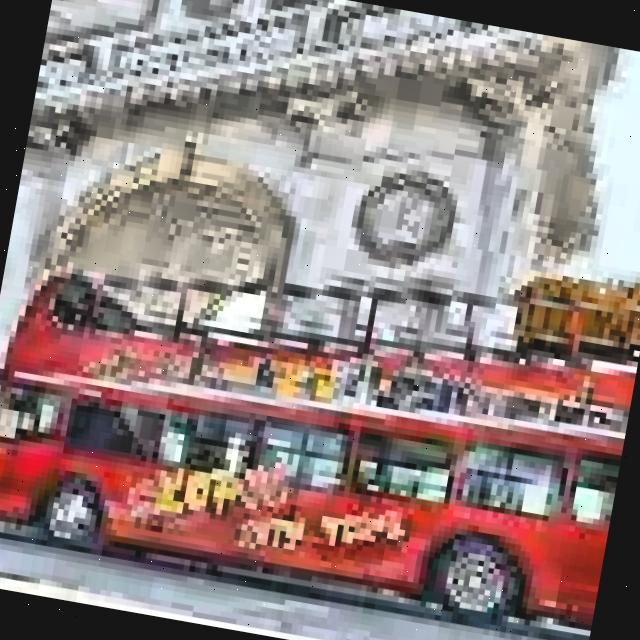triumphal arch: (0, 0, 635, 456)
